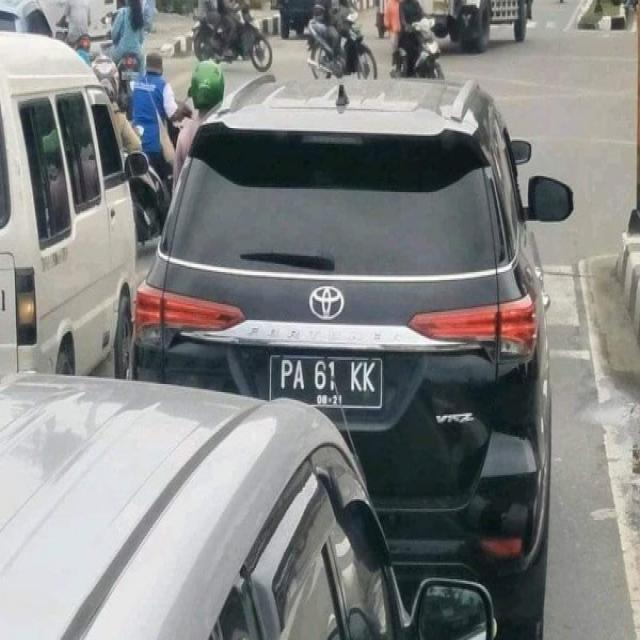plate: (275, 357, 383, 405)
